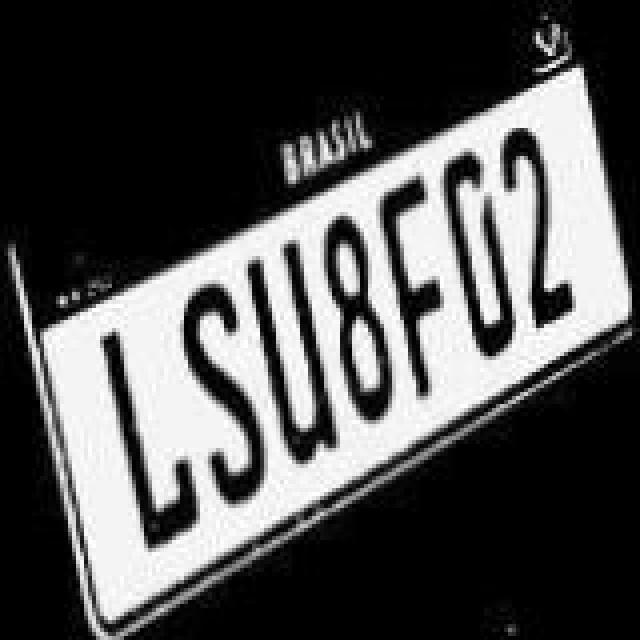2: (500, 122, 576, 326)
8: (316, 210, 396, 426)
D: (440, 150, 516, 362)
F: (372, 184, 452, 400)
L: (92, 330, 200, 558)
S: (184, 284, 268, 508)
U: (240, 240, 336, 460)
